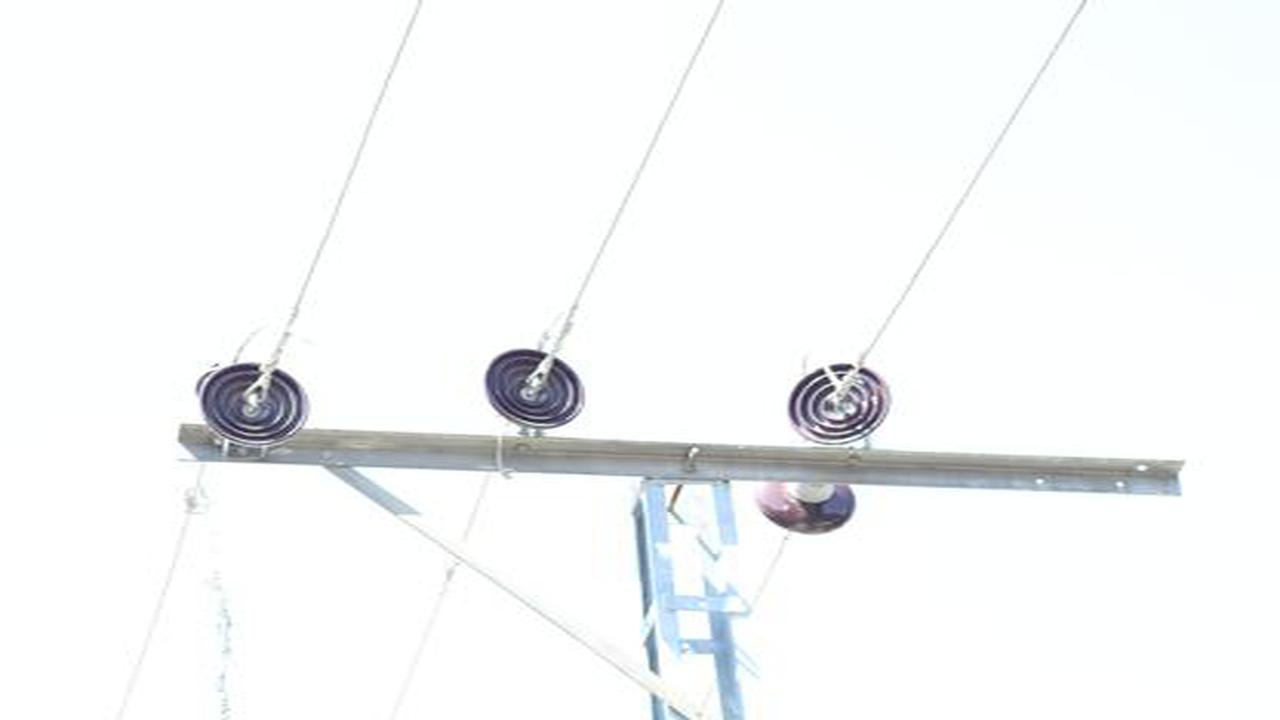insulator_disc: (471, 341, 589, 427), (784, 356, 894, 445), (202, 361, 314, 442), (752, 481, 861, 537)
